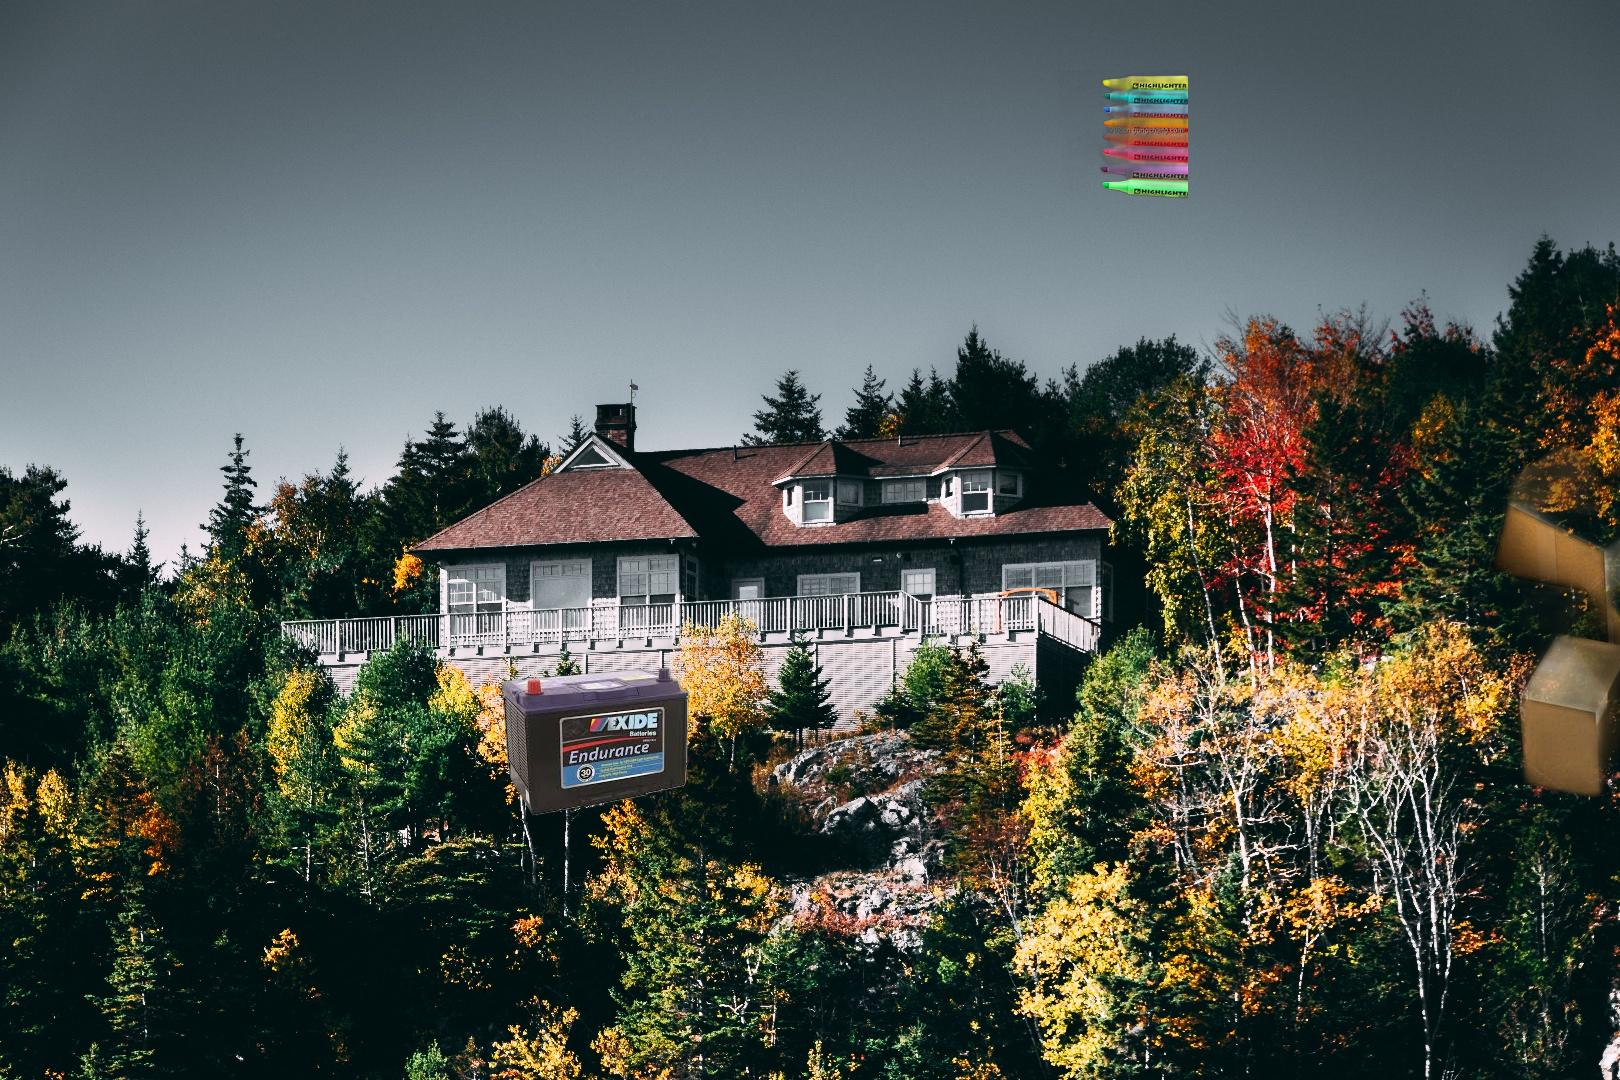battery: (499, 665, 692, 818)
penholder: (1055, 70, 1188, 202)
trashbox-cardboard: (1477, 415, 1620, 882)
